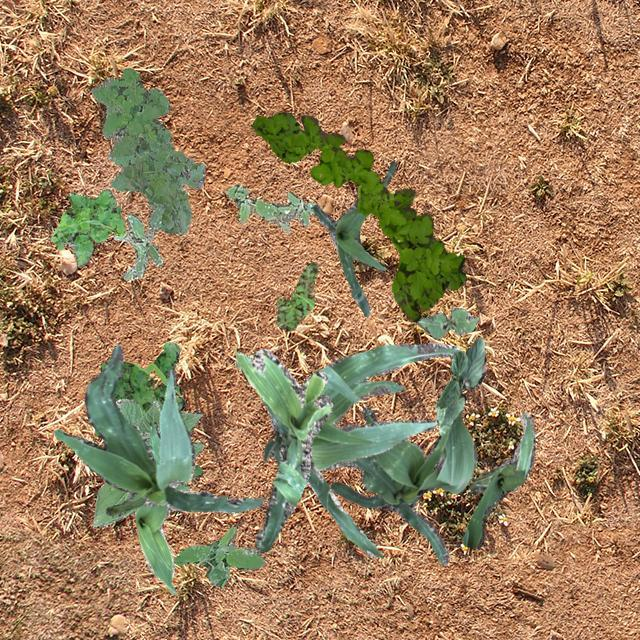crop: (262, 342, 460, 556), (54, 342, 262, 516), (329, 406, 476, 564), (234, 348, 332, 552), (91, 398, 202, 526), (310, 160, 396, 316), (462, 412, 534, 546), (134, 420, 174, 592), (434, 336, 486, 434), (416, 306, 478, 338)
weed: (250, 112, 464, 320), (90, 68, 204, 234), (100, 341, 202, 476), (50, 188, 124, 266), (172, 526, 264, 586), (225, 182, 315, 232), (112, 202, 164, 280), (274, 260, 318, 330)
